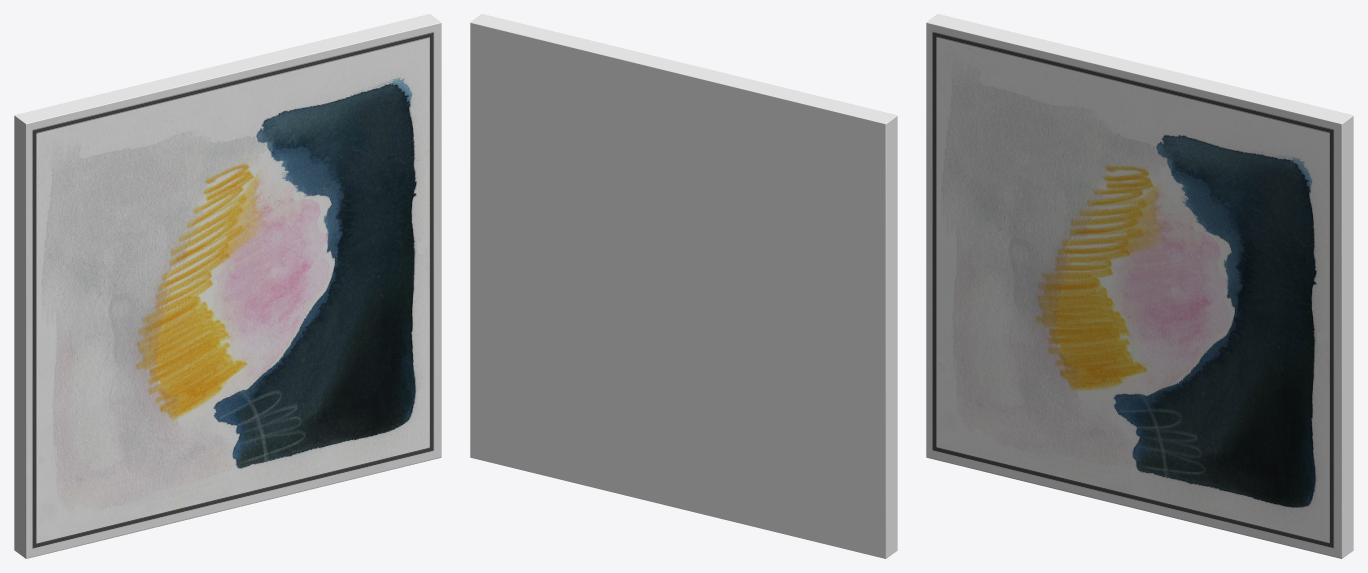
Rendered from wall_art.glb.
3 renders of one model, left to right at view 1: azimuth 30°, elevation 25°; view 2: azimuth 150°, elevation 25°; view 3: azimuth 330°, elevation 25°, orthographic.
Parts seen in each view (by area): view 1: HumanAbstractWallArtBlue; view 2: HumanAbstractWallArtBlue; view 3: HumanAbstractWallArtBlue.
Boxes of the visible parts, bbox=[...] form: HumanAbstractWallArtBlue: bbox=[14, 14, 441, 558]; HumanAbstractWallArtBlue: bbox=[470, 14, 897, 558]; HumanAbstractWallArtBlue: bbox=[926, 14, 1353, 558].
Size of the model in its own units: 1.02 by 1.02 by 0.0508.
Materials: 1 (1 with a texture image).
